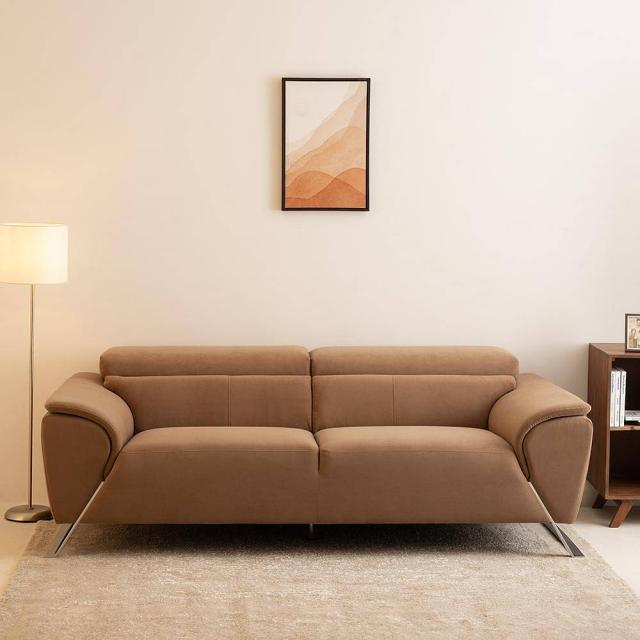sofa: (40, 343, 594, 558)
